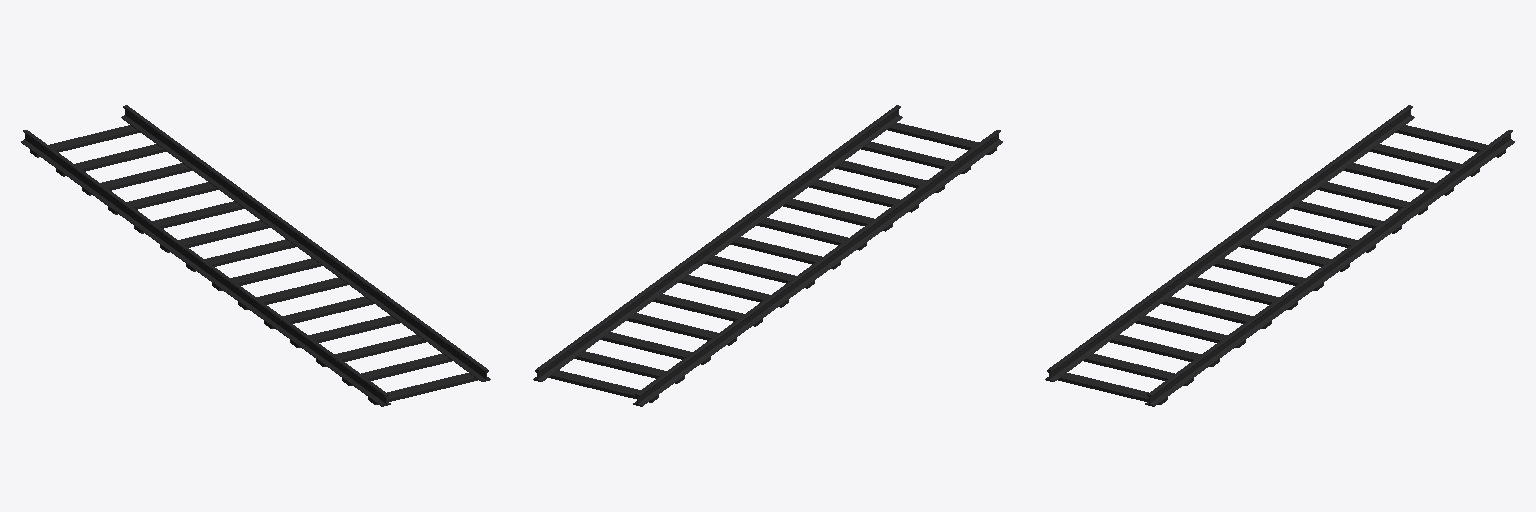
robot.urdf — railtrack_urdf:
<?xml version="1.0" encoding="utf-8"?>
<!-- This URDF was automatically created by SolidWorks to URDF Exporter! Originally created by [author] ([email redacted]) 
     Commit Version: 1.6.0-1-g15f4949  Build Version: 1.6.7594.29634
     For more information, please see http://wiki.ros.org/sw_urdf_exporter -->
<robot
  name="railtrack_urdf">
  <link
    name="base_link">
    <inertial>
      <origin
        xyz="-1.997E-05 0.3656 0.028632"
        rpy="0 0 0" />
      <mass
        value="39.366" />
      <inertia
        ixx="72.406"
        ixy="5.0287E-06"
        ixz="1.949E-05"
        iyy="3.4377"
        iyz="-0.0090042"
        izz="75.775" />
    </inertial>
    <visual>
      <origin
        xyz="0 0 0"
        rpy="0 0 0" />
      <geometry>
        <mesh
          filename="package://railtrack_urdf/meshes/base_link.STL" />
      </geometry>
      <material
        name="">
        <color
          rgba="0.2 0.2 0.2 1" />
      </material>
    </visual>
    <collision>
      <origin
        xyz="0 0 0"
        rpy="0 0 0" />
      <geometry>
        <mesh
          filename="package://railtrack_urdf/meshes/base_link.STL" />
      </geometry>
    </collision>
  </link>
</robot>

--- Facts derived from the render (not from the file) ---
Views: 3 orthographic renders of the robot side by side, from view 1: azimuth 30°, elevation 25°; view 2: azimuth 150°, elevation 25°; view 3: azimuth 330°, elevation 25°.
Robot: railtrack_urdf — 1 links, 0 joints (none); root link base_link; default pose: all joints at 0.
Links seen in each view (by area): view 1: base_link; view 2: base_link; view 3: base_link.
Boxes of the visible links, left/top/right/bottom form: base_link: left=21, top=105, right=490, bottom=406; base_link: left=533, top=105, right=1002, bottom=406; base_link: left=1045, top=105, right=1514, bottom=406.
Bounding box of the posed robot: 0.819 × 4.68 × 0.1039 m (x, y, z).
Meshes: 1 distinct files referenced, 1 mesh visuals loaded (1 binary STL).